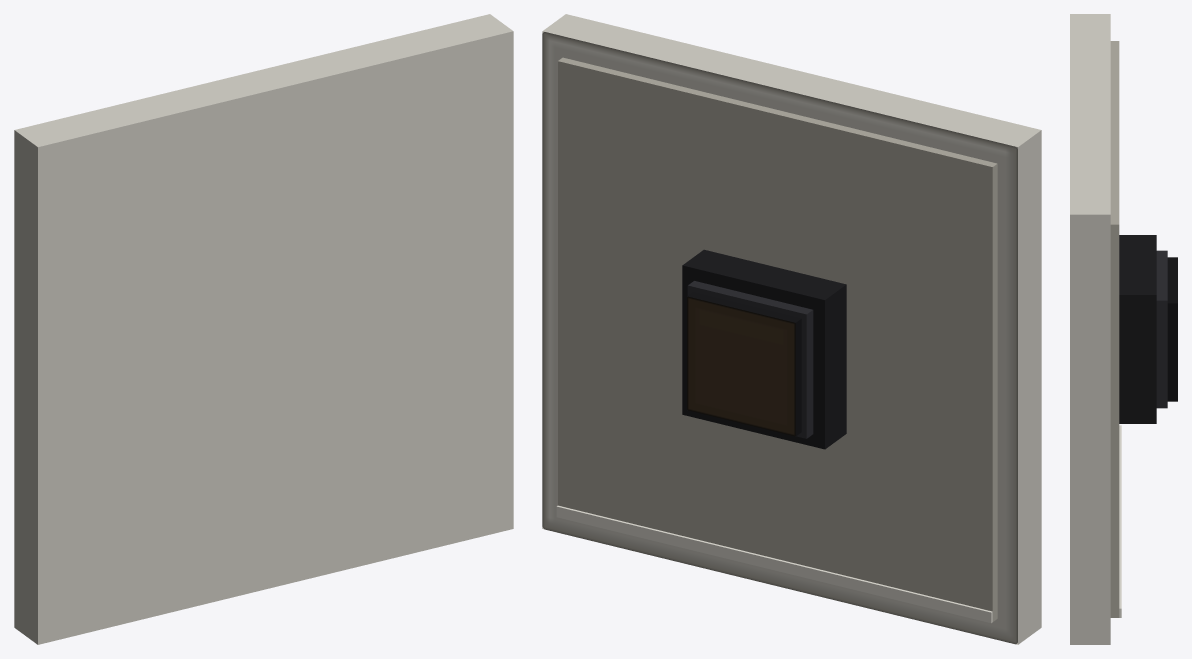
File: indicator_orange_off.obj
3 views of the same model, side by side, from view 1: azimuth 30°, elevation 25°; view 2: azimuth 150°, elevation 25°; view 3: azimuth 270°, elevation 25° (orthographic). The views are drawn at different scales.
Visible parts, largest first — view 1: Panel; view 2: Panel, Lamp; view 3: Panel, Lamp.
Part boxes in pixels (box(x1,y1,x2,y2)): Panel: box(14, 14, 513, 644); Panel: box(542, 14, 1041, 644); Lamp: box(682, 249, 846, 449); Panel: box(1070, 14, 1121, 644); Lamp: box(1119, 235, 1177, 423).
Size of the model in its own units: 0.875 by 0.875 by 0.1988.
1 material, 1 textured.
